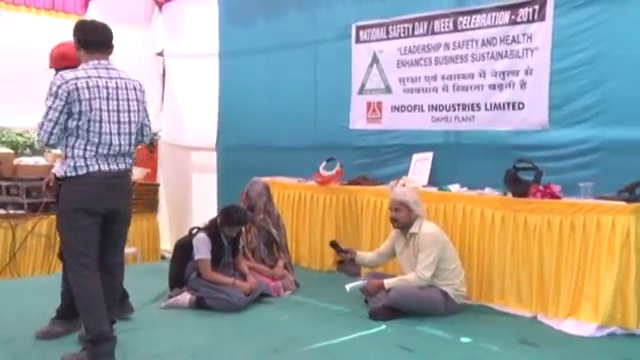helmet: (46, 42, 83, 73), (128, 167, 153, 181)
helmet_off: (58, 19, 118, 67), (382, 188, 425, 237), (243, 184, 280, 230), (211, 203, 250, 244)
person: (38, 19, 145, 349), (333, 184, 469, 325), (164, 202, 276, 317), (230, 181, 296, 295), (132, 137, 157, 184)
